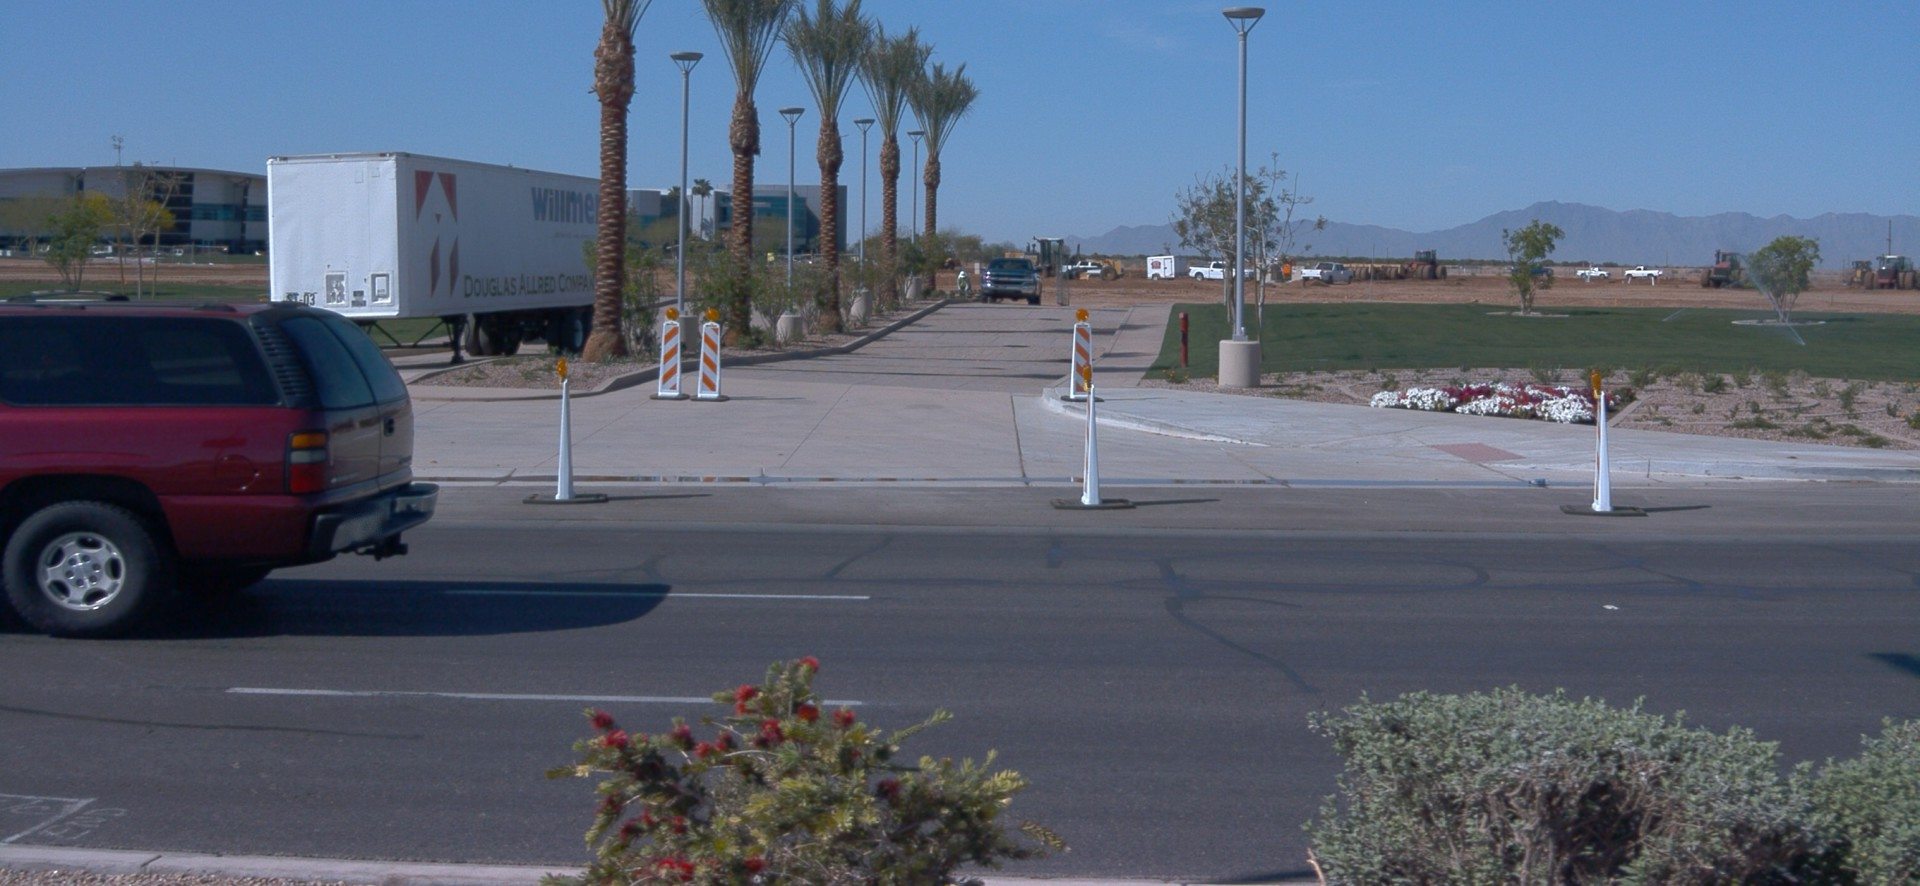TYPE_PEDESTRIAN: (957, 271, 972, 297)
TYPE_VEHICLE: (0, 295, 443, 635), (269, 149, 629, 368), (1004, 234, 1124, 283), (981, 251, 1047, 310), (1348, 246, 1446, 277), (1863, 254, 1920, 293), (1702, 252, 1751, 292), (1187, 260, 1256, 284), (1841, 257, 1881, 291), (1303, 262, 1356, 283), (1145, 256, 1190, 280), (1343, 264, 1403, 279), (1060, 260, 1101, 281), (1507, 262, 1552, 276), (1623, 265, 1664, 279), (936, 248, 959, 269), (1574, 266, 1613, 277), (38, 244, 51, 255), (166, 249, 184, 255)
